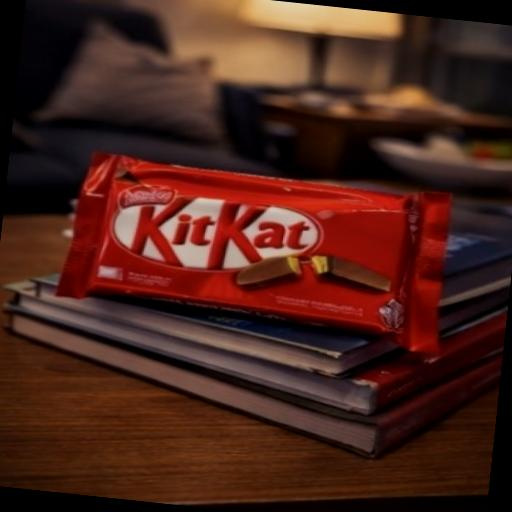kitkat: (17, 130, 512, 408)
